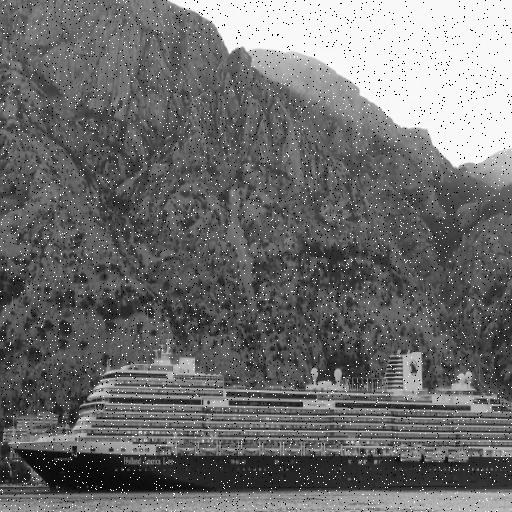cruises: (8, 329, 512, 495)
